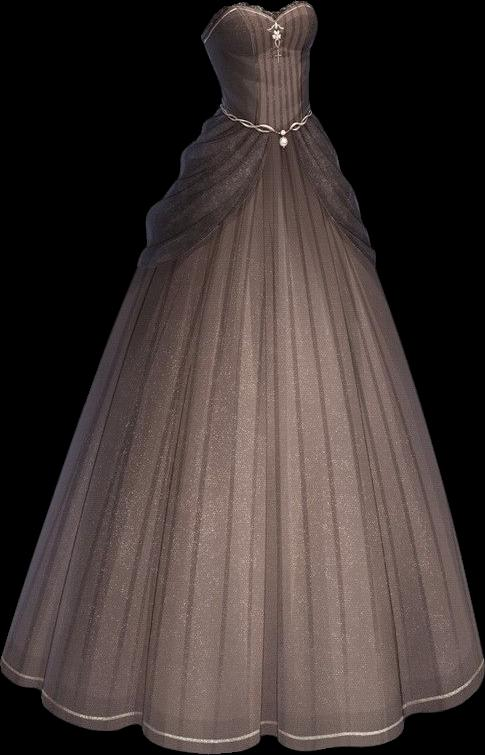Bodice: (201, 1, 317, 138)
Hemline: (0, 660, 484, 754), (136, 139, 289, 271), (285, 139, 376, 254)
Neckline: (198, 0, 311, 39)
Skirt: (1, 113, 484, 753)
Waistline: (218, 108, 315, 144)
